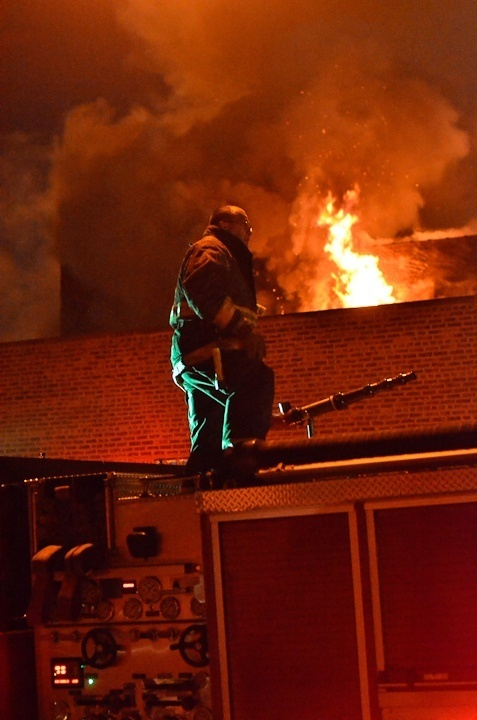fire: (309, 187, 401, 312)
